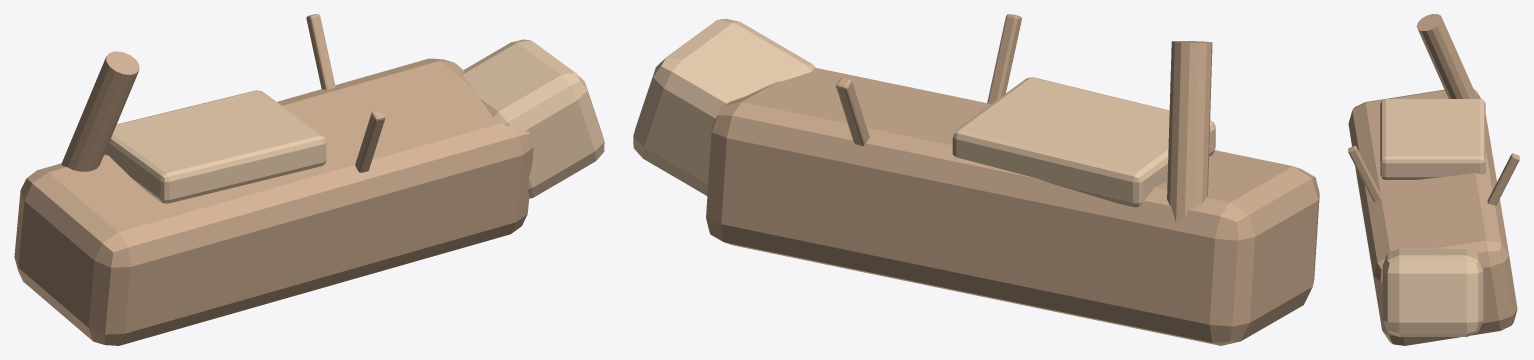
The model's file is ship_wreck.glb.
The picture shows the model from 3 angles, left to right: view 1: azimuth 30°, elevation 25°; view 2: azimuth 150°, elevation 25°; view 3: azimuth 270°, elevation 25°; orthographic projection. The views are drawn at different scales.
Visible parts, largest first — view 1: ship_wreck.001; view 2: ship_wreck.001; view 3: ship_wreck.001.
Part boxes in pixels (x1,y1,x2,y2): ship_wreck.001: (14, 14, 604, 345); ship_wreck.001: (633, 14, 1319, 345); ship_wreck.001: (1348, 14, 1519, 345).
Size of the model in its own units: 5.19 by 2.32 by 1.88.
